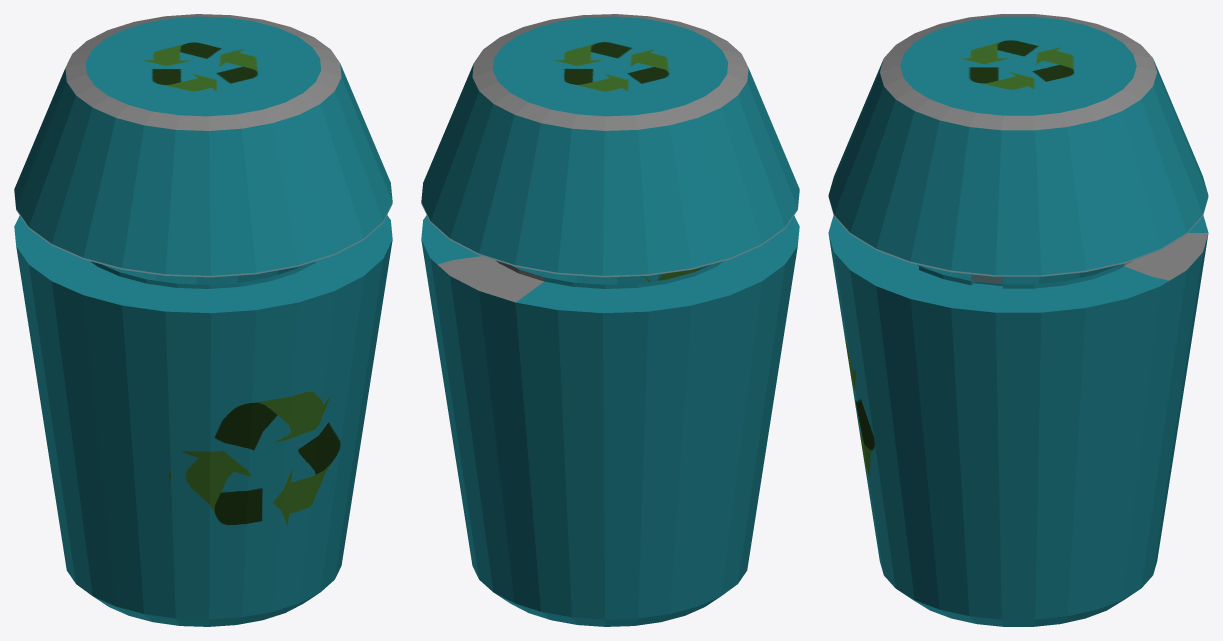
File: smallrecycl.fbx
3 views of the same model, side by side, from view 1: azimuth 30°, elevation 25°; view 2: azimuth 150°, elevation 25°; view 3: azimuth 270°, elevation 25° (orthographic).
Parts seen in each view (by area): view 1: Cylinder.001; view 2: Cylinder.001; view 3: Cylinder.001.
Boxes of the visible parts, bbox=[...] form: Cylinder.001: bbox=[14, 14, 392, 626]; Cylinder.001: bbox=[421, 14, 799, 626]; Cylinder.001: bbox=[828, 14, 1208, 626].
Bounding box in the file's own units: 65.88 × 98.5 × 66.37.
